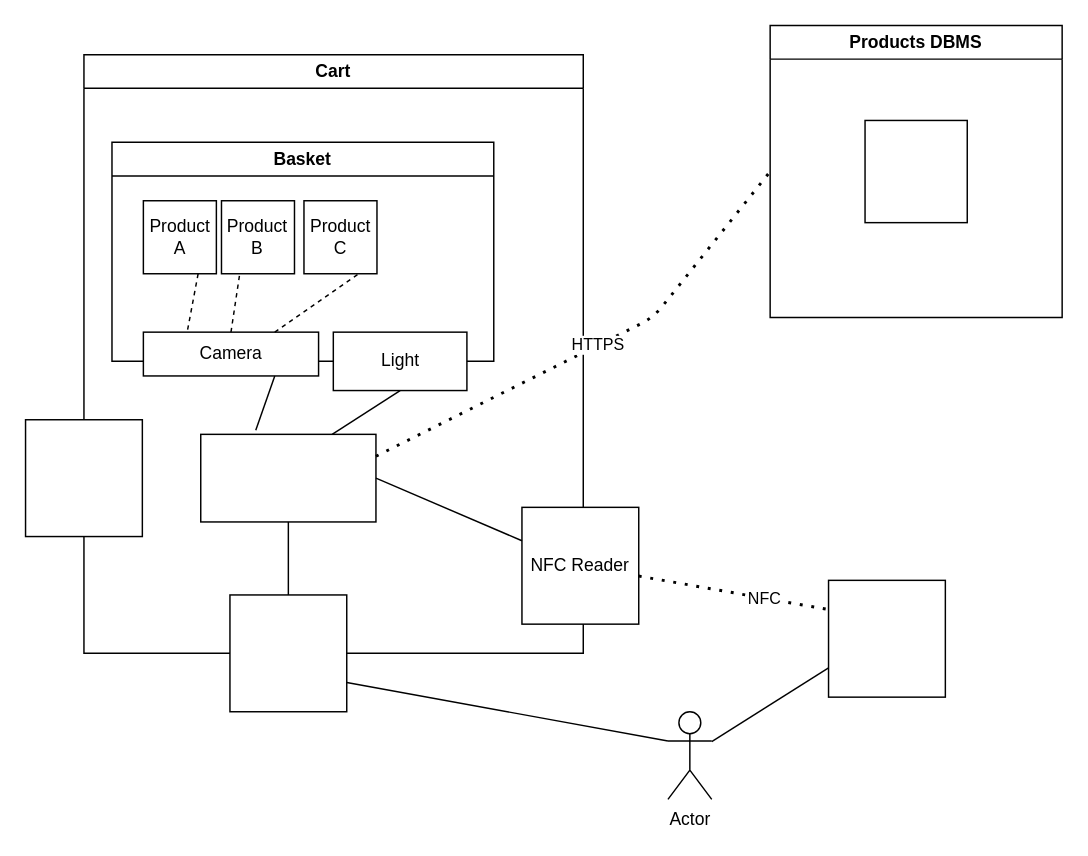
Image size: 1088x856. Some labels were removed from this diagram. Here are the shapes that lost their labels. From the top down, the box of each, then its label:
(864, 119, 967, 223): DBMS
(24, 418, 142, 537): Battery Circuit
(199, 433, 376, 522): Raspberry Pi
(228, 593, 347, 712): TFT LCD
(827, 579, 945, 697): Credit Card
